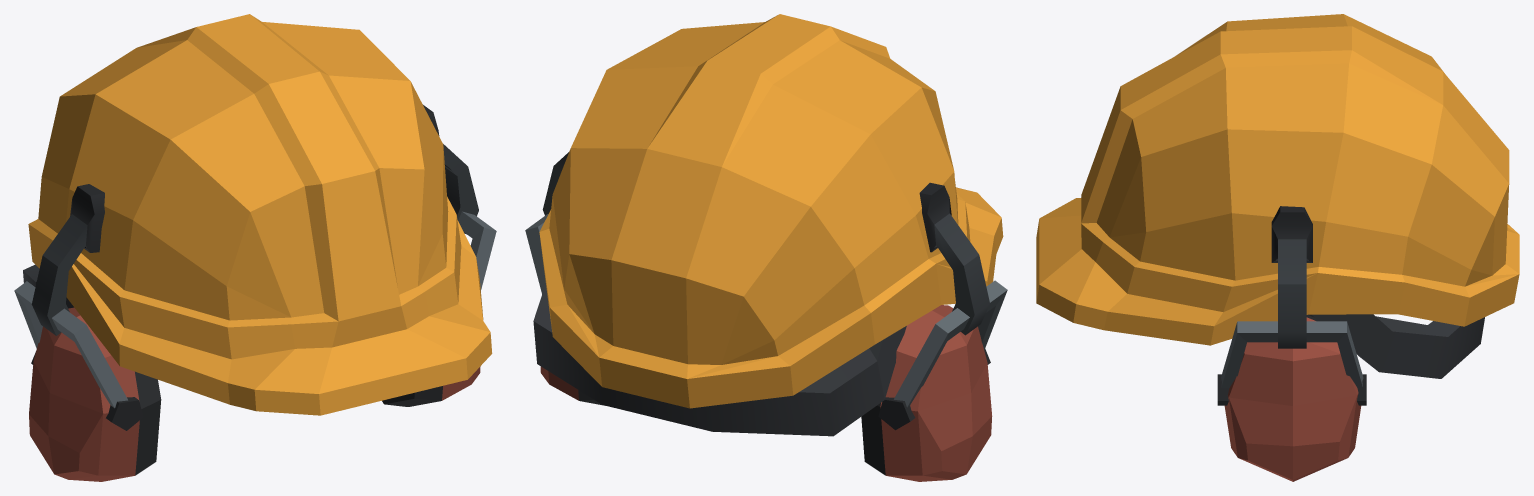
The model's file is SM_Chr_Attach_Helmet_Earmuffs_01.glb.
The picture shows the model from 3 angles, left to right: view 1: azimuth 30°, elevation 25°; view 2: azimuth 150°, elevation 25°; view 3: azimuth 270°, elevation 25°; orthographic projection. The views are drawn at different scales.
Visible parts, largest first — view 1: SM_Chr_Attach_Helmet_Earmuffs_01; view 2: SM_Chr_Attach_Helmet_Earmuffs_01; view 3: SM_Chr_Attach_Helmet_Earmuffs_01.
Part boxes in pixels (box(x1,y1,x2,y2)): SM_Chr_Attach_Helmet_Earmuffs_01: box(14, 14, 496, 481); SM_Chr_Attach_Helmet_Earmuffs_01: box(525, 14, 1007, 481); SM_Chr_Attach_Helmet_Earmuffs_01: box(1036, 14, 1519, 481).
Size of the model in its own units: 0.3485 by 0.309 by 0.3663.
Materials: 1 (1 with a texture image).
